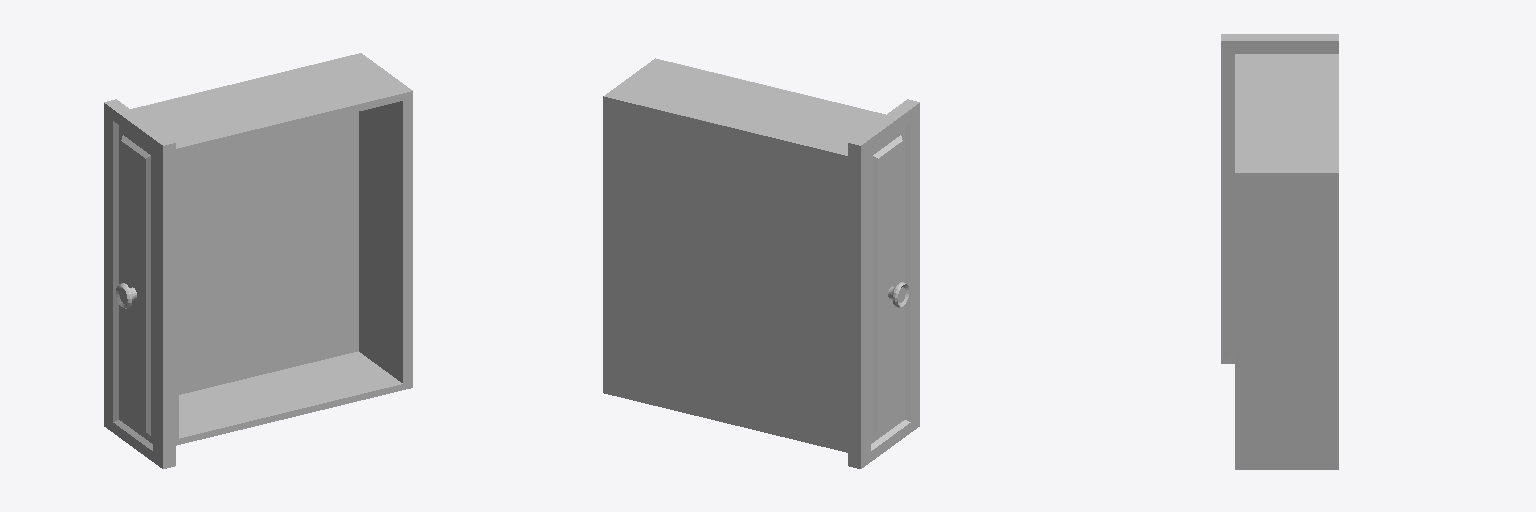
The model's file is am_kitchenDrawer.obj.
3 renders of one model, left to right at view 1: azimuth 30°, elevation 25°; view 2: azimuth 150°, elevation 25°; view 3: azimuth 270°, elevation 25°, orthographic.
Parts seen in each view (by area): view 1: am_kitchen01_box; view 2: am_kitchen01_box; view 3: am_kitchen01_box.
Boxes of the visible parts, x1=… form: am_kitchen01_box: x1=104, y1=53, x2=412, y2=468; am_kitchen01_box: x1=603, y1=58, x2=919, y2=468; am_kitchen01_box: x1=1221, y1=34, x2=1338, y2=469.
Bounding box in the file's own units: 20.95 × 24.01 × 8.